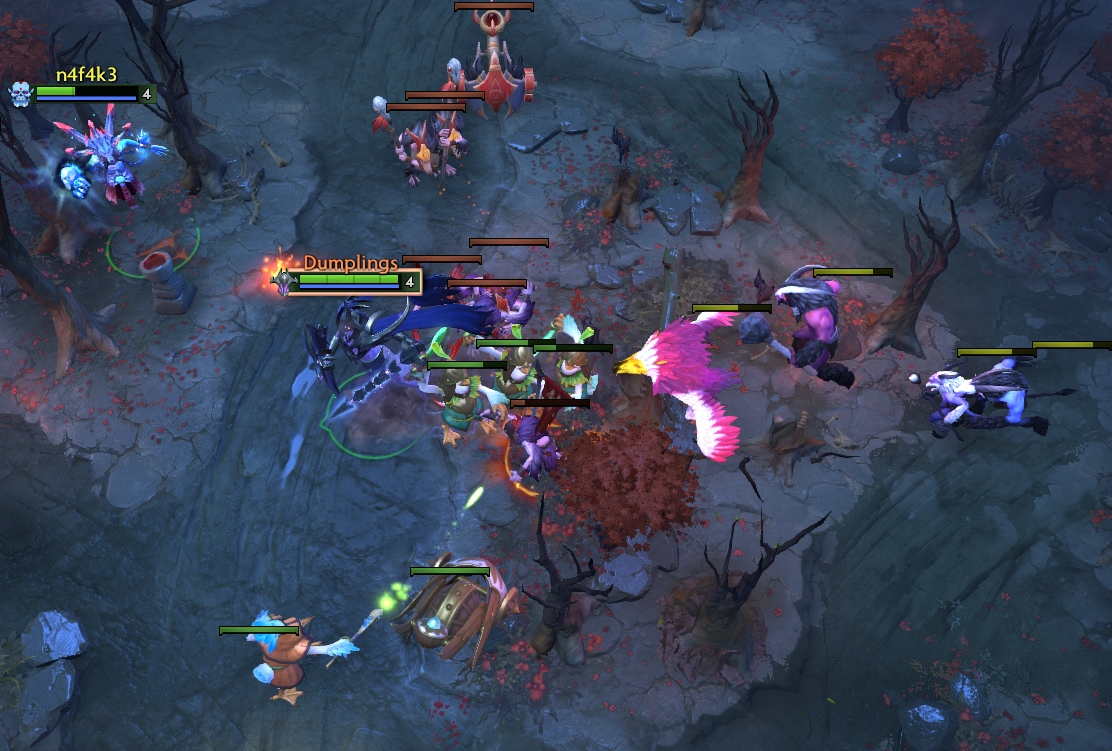allyCreep: (418, 354, 513, 374), (465, 336, 560, 353), (404, 559, 494, 575), (216, 623, 306, 636), (527, 342, 617, 354)
enemyCreep: (372, 97, 471, 115), (463, 231, 556, 249), (510, 392, 593, 411), (443, 272, 529, 290), (396, 88, 490, 104), (397, 249, 488, 265), (442, 0, 542, 11)
